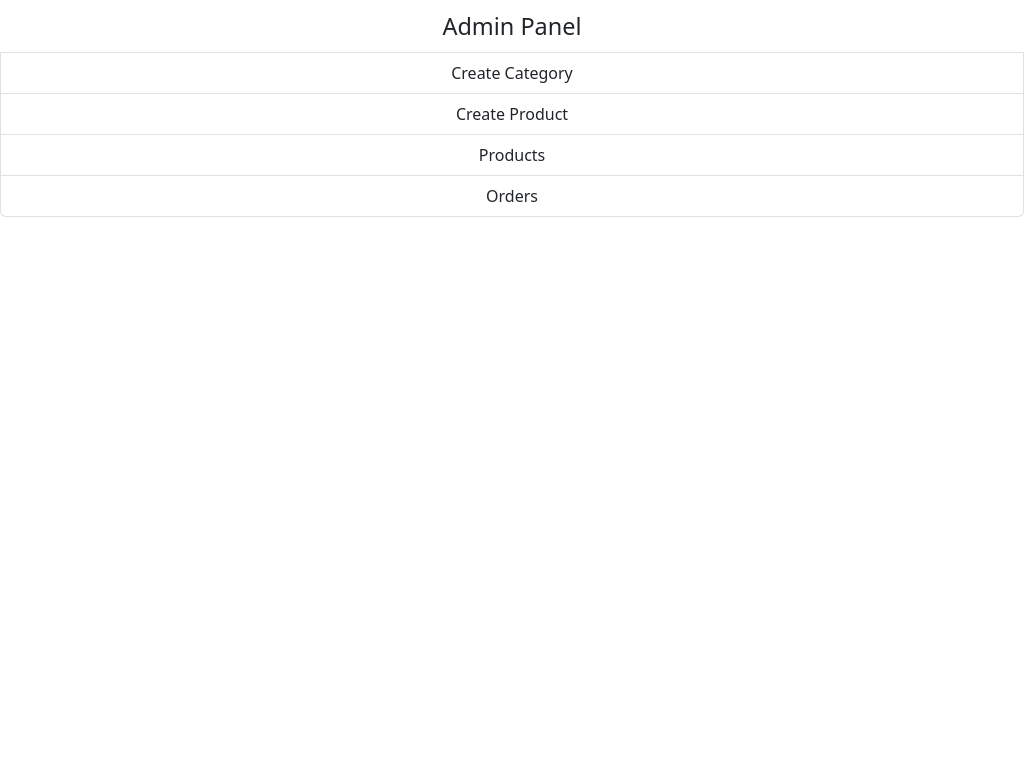
AdminMenu Integration Tests › navigates to Products page from AdminMenu
The width and height of the screenshot is (1024, 780).
Click the link "Products" at (512, 155), box [0,135,1023,176]
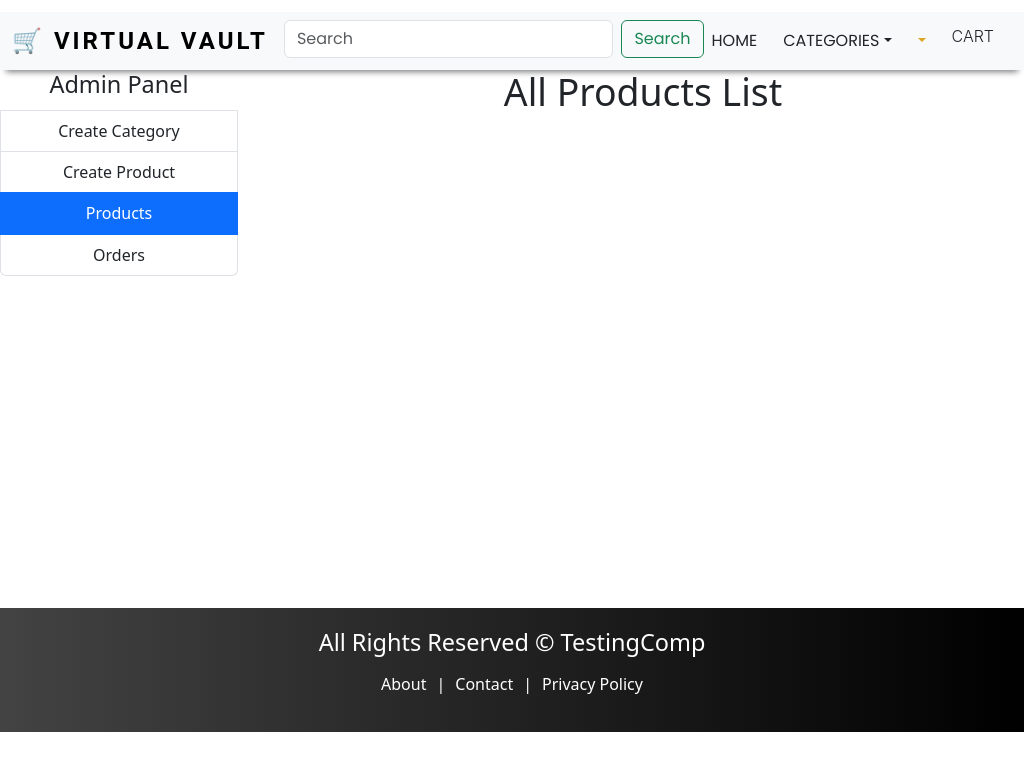
Result: the heading "All Products List" is shown at [504,66,782,117]
